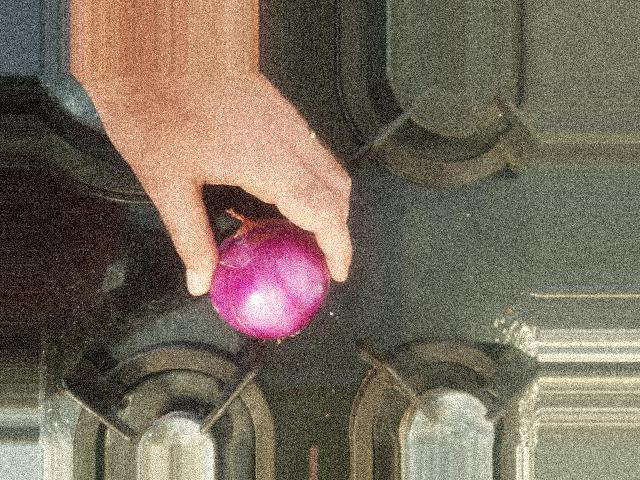onion: (313, 280, 430, 407)
